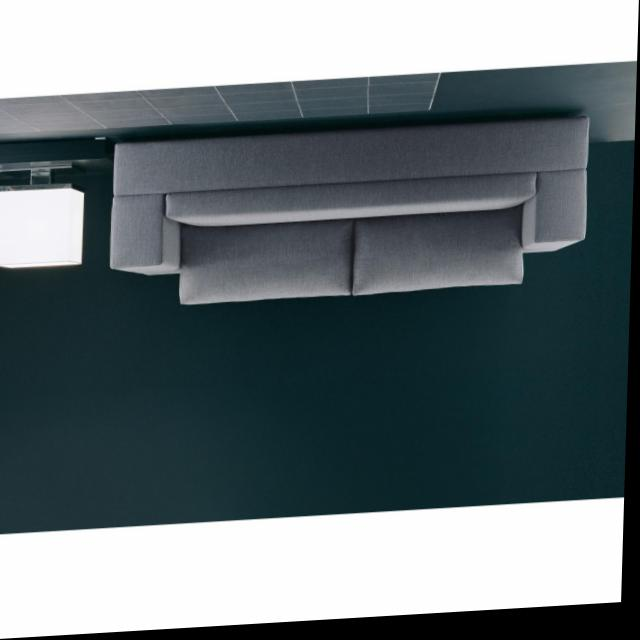Sofa: (107, 119, 591, 315)
